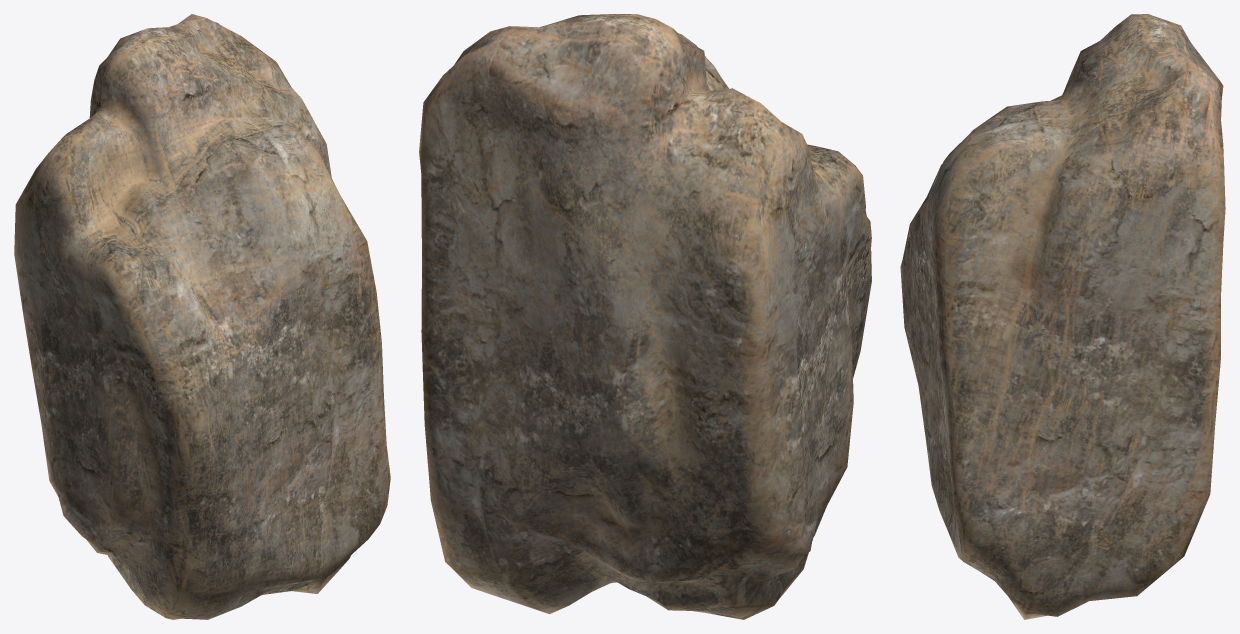
File: Rock.obj
The picture shows the model from 3 angles, left to right: view 1: azimuth 30°, elevation 25°; view 2: azimuth 150°, elevation 25°; view 3: azimuth 270°, elevation 25°; orthographic projection. The views are drawn at different scales.
Parts seen in each view (by area): view 1: Rock; view 2: Rock; view 3: Rock.
Boxes of the visible parts, x1,y1,x2,y2 form: Rock: [14, 14, 390, 619]; Rock: [419, 14, 871, 619]; Rock: [900, 14, 1225, 619].
Bounding box in the file's own units: 3.96 × 7.26 × 3.92.
1 material, 1 textured.
